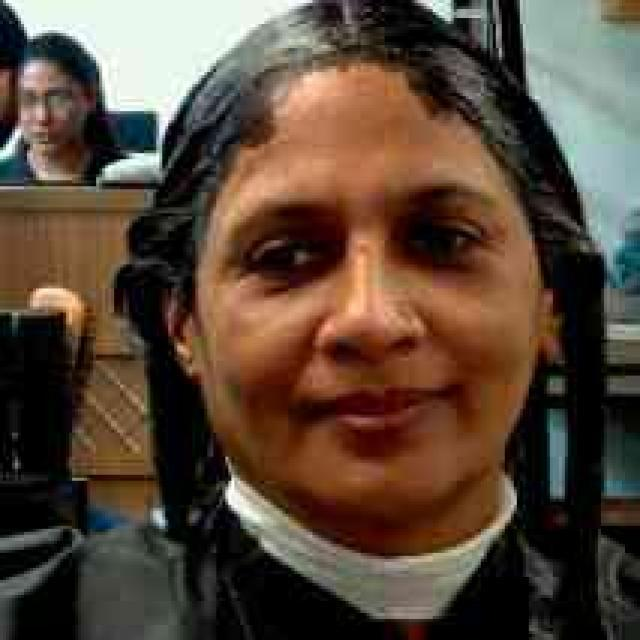puffy_eyes: (255, 250, 338, 296), (405, 250, 487, 272)
